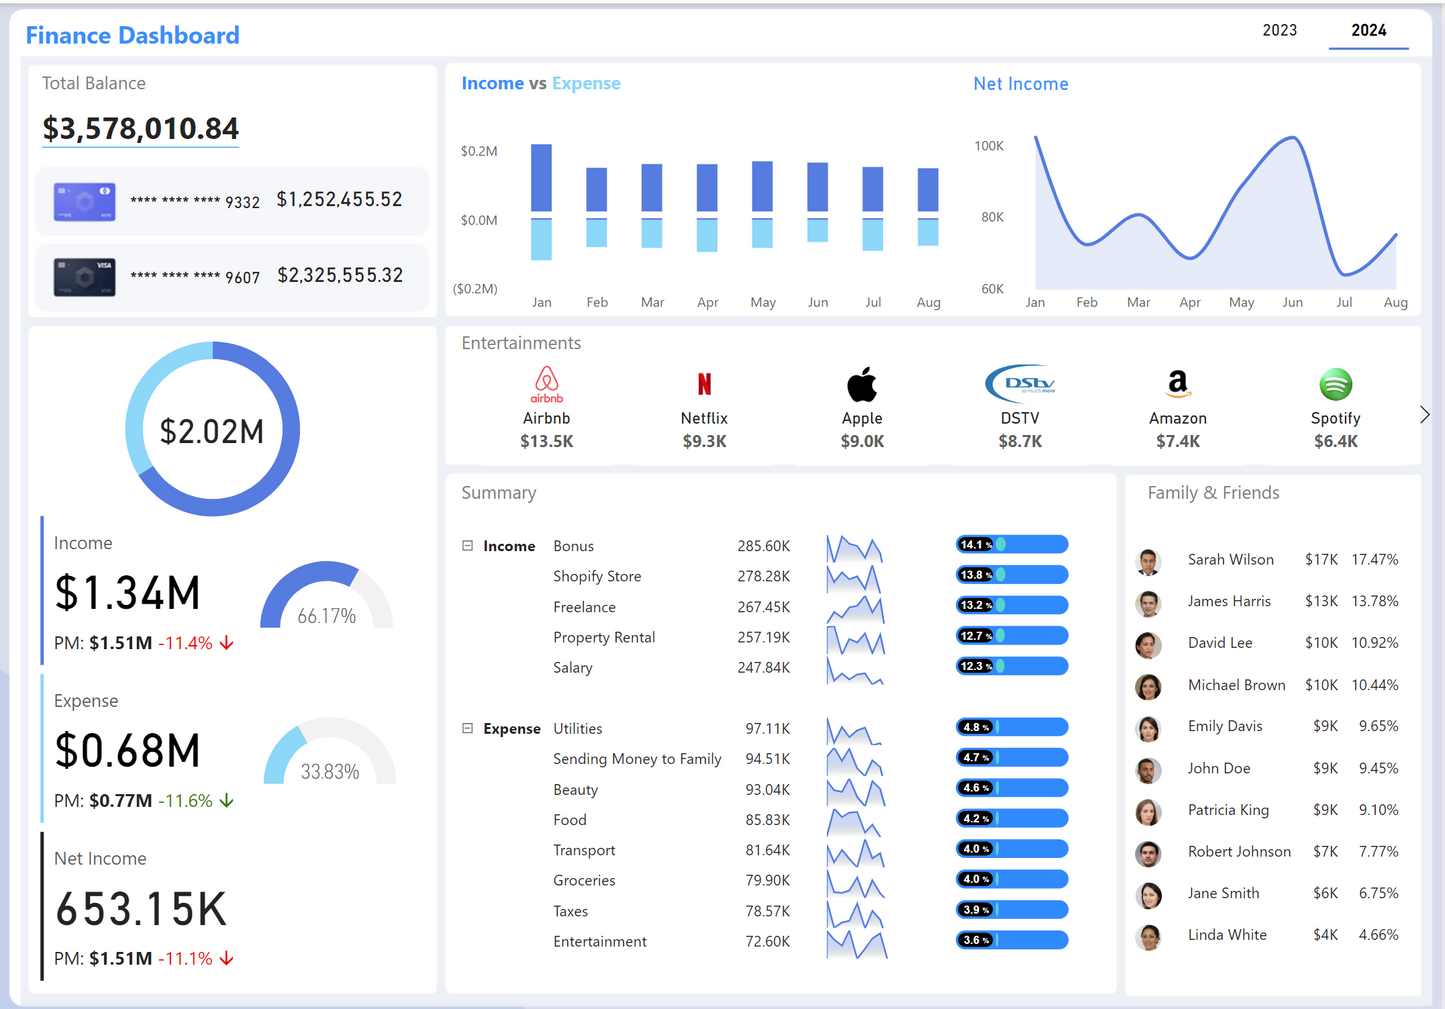

Layout of this report page (visuals, bound fields, positions):
{"tool":"powerbi","page":{"name":"Dashboard","canvas":[1280,900],"ordinal":0},"visuals":[{"type":"textbox","box":[33.8,92.5,268.8,56.2],"z":0},{"type":"card","fields":{"Values":["dimAccount.CardNumber"]},"box":[100.9,166.2,136.9,30.8],"z":2000},{"type":"textbox","box":[35.1,58.2,131.7,34],"z":2500},{"type":"card","fields":{"Values":["dimAccount.CardNumber"]},"box":[95.5,234.5,143.6,30],"z":3000},{"type":"card","fields":{"Values":["All Measures.Total Balance"]},"box":[233.8,150,151.2,58.8],"z":4000},{"type":"card","fields":{"Values":["All Measures.Total Balance"]},"box":[233.8,218.8,151.2,58.8],"z":5000},{"type":"donutChart","fields":{"Y":["All Measures.Total Amount"],"Category":["dimCategory.Type"]},"box":[105,276.2,220,207.5],"z":6000},{"type":"card","fields":{"Values":["All Measures.Total Amount"]},"box":[171.2,361.2,86.2,36.2],"z":7000},{"type":"cardVisual","fields":{"Data":["All Measures.Income","All Measures.Expense","All Measures.Net Income"]},"box":[35,462,344,415],"z":8000},{"type":"gauge","fields":{"Y":["All Measures.Income %"]},"box":[226.2,483.8,151.2,108.8],"z":9000},{"type":"advancedSlicerVisual","fields":{"Values":["Calendar.Year"]},"box":[1112.5,0,152.5,52.5],"z":10000},{"type":"gauge","fields":{"Y":["All Measures.Expense %"]},"box":[227.5,623.8,151.2,108.8],"z":11000},{"type":"clusteredColumnChart","fields":{"Y":["All Measures.Income","All Measures.Expense neg"],"Category":["Calendar.Month"]},"box":[402.8,75.7,466.5,200.9],"z":12000},{"type":"textbox","box":[410.5,52.7,178.9,34],"z":14500},{"type":"textbox","box":[22.7,13.6,210.9,39.1],"z":14750},{"type":"areaChart","fields":{"Y":["All Measures.Net Income"],"Category":["Calendar.Month"]},"box":[855,63.8,401.2,212.5],"z":16000},{"type":"advancedSlicerVisual","fields":{"Values":["dimCategory.Subcategory"]},"box":[398.8,305,857.5,105],"z":18000},{"type":"textbox","box":[855.5,52.7,112.7,34.5],"z":18500},{"type":"pivotTable","fields":{"Rows":["dimCategory.Type","dimCategory.Category"],"Values":["All Measures.Total Amount","All Measures.Total Amount Sparkline","All Measures.Animated SVG"]},"box":[399.5,437.9,593.8,443.4],"z":20000},{"type":"textbox","box":[400.6,285.4,131.7,32.9],"z":21500},{"type":"tableEx","fields":{"Values":["dimRecipients.Picture","dimRecipients.RecipientName","All Measures.Total Amount","All Measures.Friends and Family Contribution"]},"box":[992.2,437.9,279.9,443.4],"z":23000},{"type":"textbox","box":[400.9,417.3,90.9,32.7],"z":23250},{"type":"textbox","box":[1003.2,419.3,136.1,32.9],"z":23500}]}

Visuals, with their boxes in screenshot pixels (x1, y1, x2, y2), scaled from the page's 1280x900 canvas onto the 1445x1009 screenshot:
textbox: [38,104,342,167]
card - dimAccount.CardNumber: [114,186,268,221]
textbox: [40,65,188,103]
card - dimAccount.CardNumber: [108,263,270,297]
card - All Measures.Total Balance: [264,168,435,234]
card - All Measures.Total Balance: [264,245,435,311]
donutChart - All Measures.Total Amount x dimCategory.Type: [119,310,367,542]
card - All Measures.Total Amount: [193,405,291,446]
cardVisual - All Measures.Income x All Measures.Expense: [40,518,428,983]
gauge - All Measures.Income %: [255,542,426,664]
advancedSlicerVisual - Calendar.Year: [1256,0,1428,59]
gauge - All Measures.Expense %: [257,699,428,821]
clusteredColumnChart - All Measures.Income x All Measures.Expense neg: [455,85,981,310]
textbox: [463,59,665,97]
textbox: [26,15,264,59]
areaChart - All Measures.Net Income x Calendar.Month: [965,72,1418,310]
advancedSlicerVisual - dimCategory.Subcategory: [450,342,1418,460]
textbox: [966,59,1093,98]
pivotTable - dimCategory.Type x dimCategory.Category: [451,491,1121,988]
textbox: [452,320,601,357]
tableEx - dimRecipients.Picture x dimRecipients.RecipientName: [1120,491,1436,988]
textbox: [453,468,555,504]
textbox: [1133,470,1286,507]
